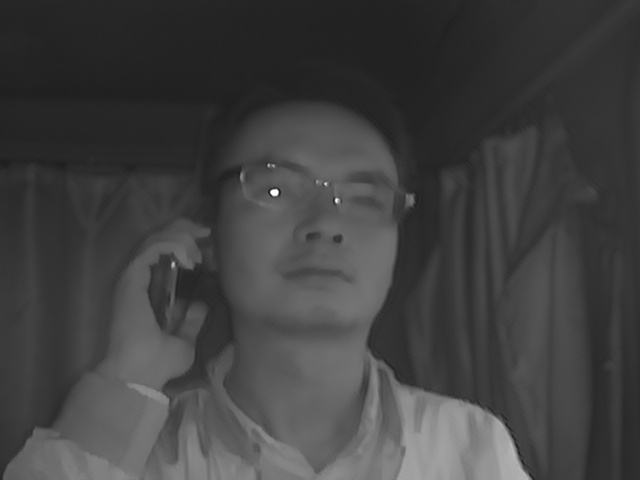hand: (107, 215, 212, 376)
